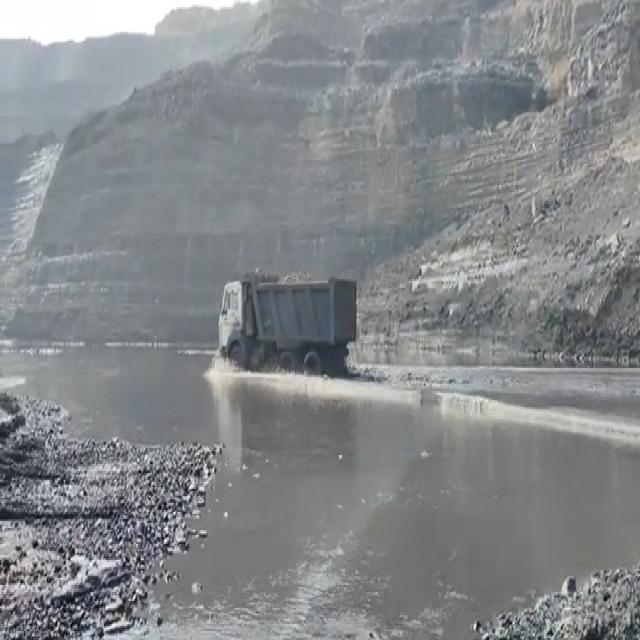dump_truck: (215, 276, 355, 376)
